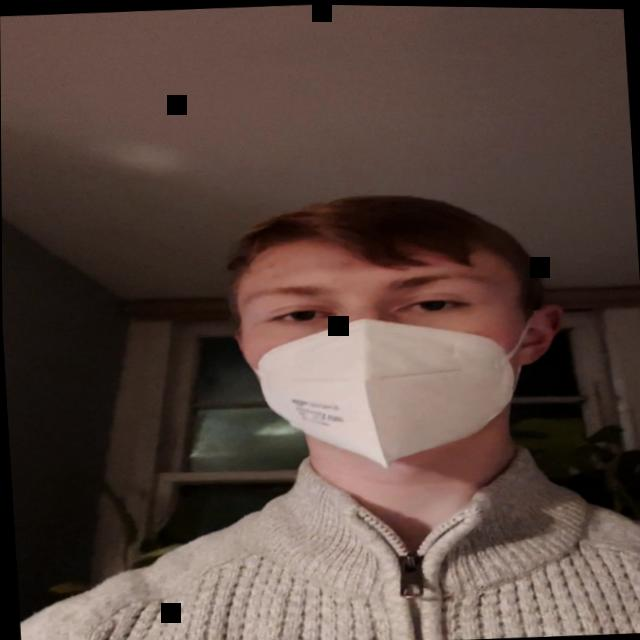Mask: (234, 233, 536, 473)
